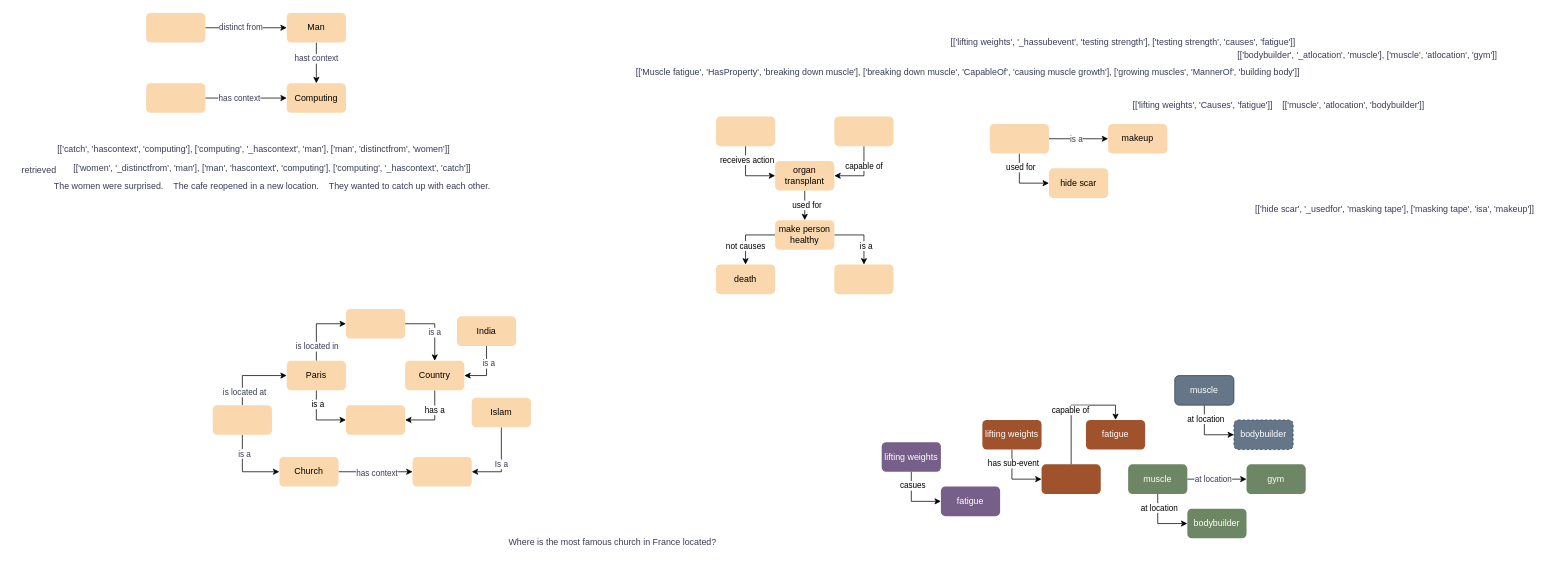
The diagram is 1555 pixels wide and 565 high, and some of its shapes have lost their labels. Each missing label, with the centre of its shape:
"capital" goes at point (375, 419).
"Catch" goes at point (175, 97).
"France" goes at point (375, 323).
"important" goes at point (863, 279).
"kidneys" goes at point (863, 131).
"masking tape" goes at point (1019, 138).
"Notre-Dame" goes at point (242, 419).
"patient" goes at point (745, 131).
"Religion" goes at point (441, 471).
"testing strength" goes at point (1070, 479).
"Women" goes at point (175, 27).
